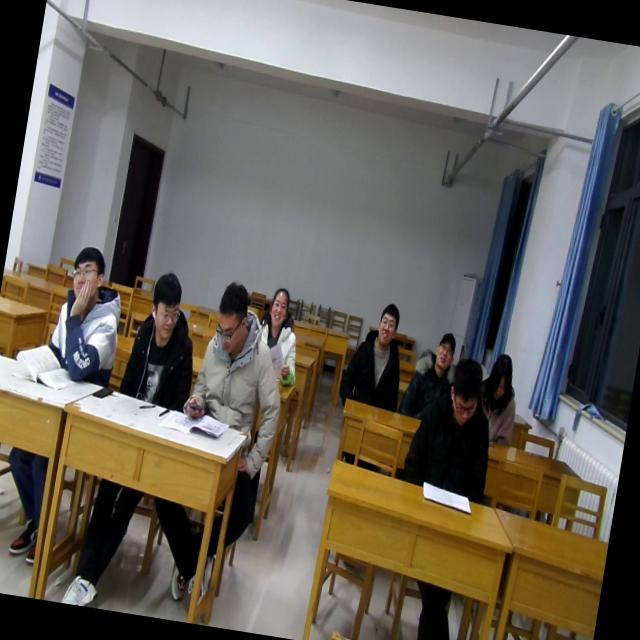down: (207, 273, 256, 363), (439, 354, 489, 434), (482, 345, 519, 409)
lookup: (65, 239, 112, 310), (370, 299, 404, 354), (262, 280, 294, 334), (428, 326, 459, 377)
sit: (180, 276, 299, 440), (399, 351, 504, 506), (115, 266, 208, 416), (42, 245, 134, 386), (337, 295, 415, 413), (250, 284, 312, 394), (398, 326, 466, 426), (474, 350, 528, 450)
